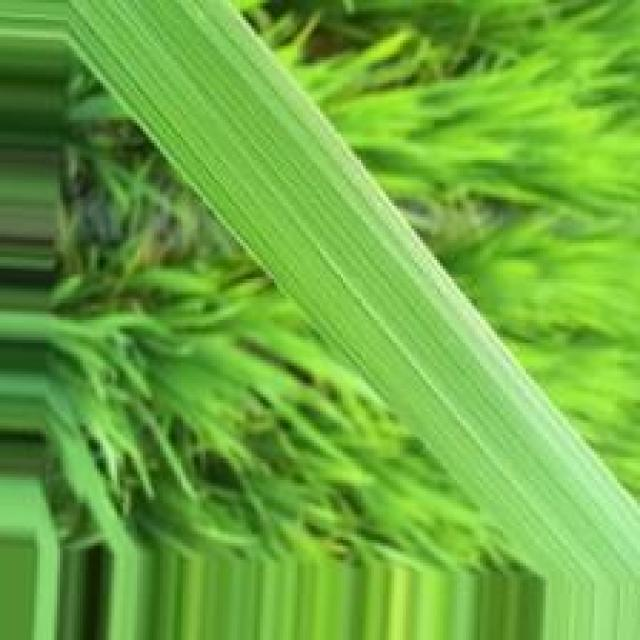HealthyLeaf: (4, 0, 638, 640)
